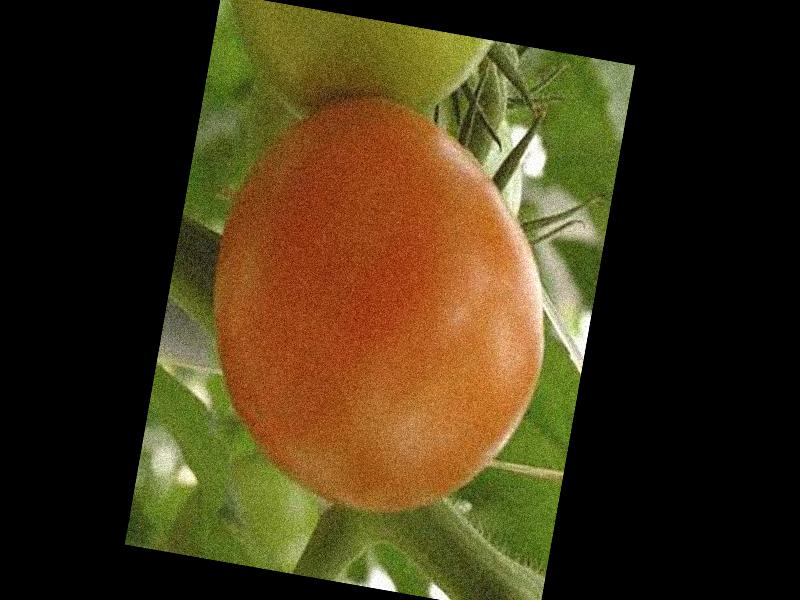Tomato: (179, 77, 583, 536)
